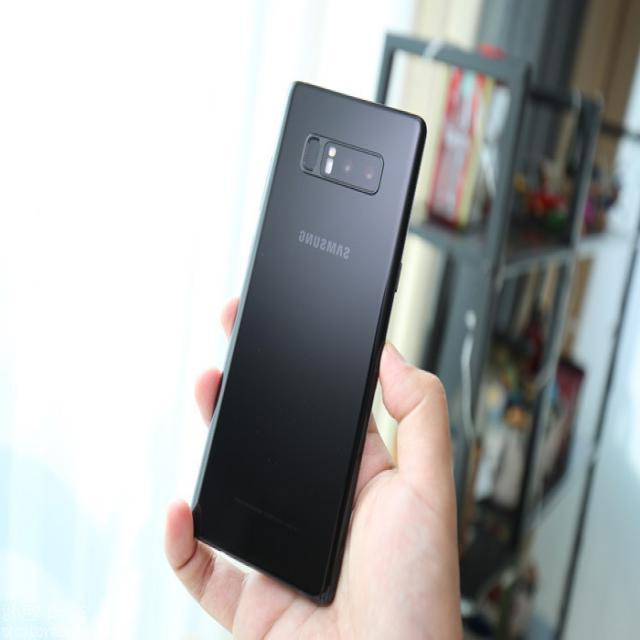mobile: (185, 77, 430, 607)
